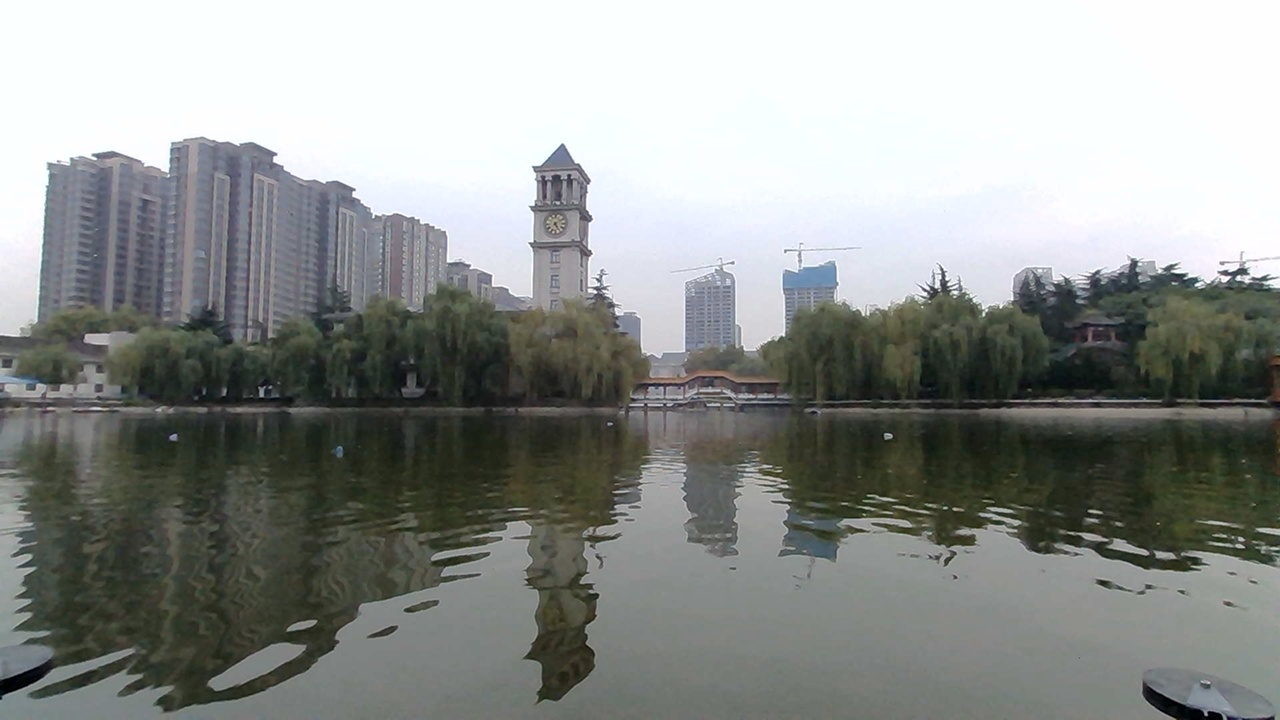bottle: (866, 424, 904, 445), (324, 441, 358, 463), (163, 420, 184, 448)
